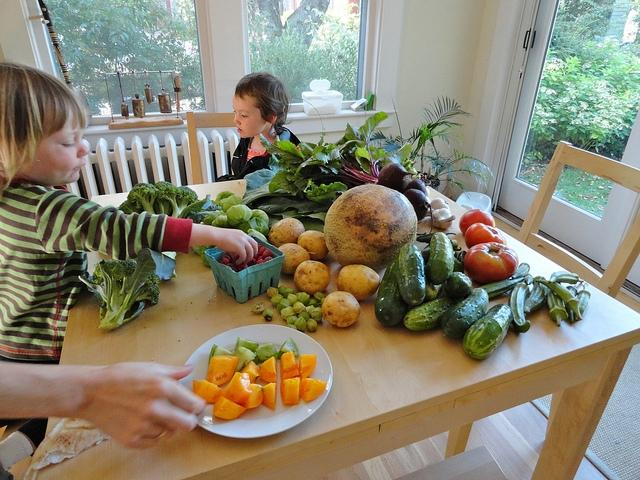brussels sprouts: (308, 307, 324, 322), (280, 306, 296, 320), (296, 292, 310, 306), (276, 298, 290, 312), (293, 300, 306, 314), (294, 316, 306, 331), (282, 287, 296, 299), (306, 318, 318, 332), (286, 293, 298, 306), (262, 309, 274, 322), (266, 286, 278, 298), (314, 292, 326, 303), (298, 312, 310, 322), (278, 285, 286, 296)
cucumber: (462, 304, 514, 360), (374, 260, 410, 326), (441, 288, 488, 338), (403, 296, 465, 331), (394, 243, 426, 306), (424, 232, 454, 286), (422, 248, 464, 273), (445, 272, 472, 298), (422, 277, 443, 303)
potato: (336, 264, 381, 300), (321, 291, 361, 328), (294, 260, 330, 296), (268, 218, 306, 248), (278, 243, 310, 275), (297, 229, 329, 260)
tomato: (464, 242, 519, 284), (465, 222, 507, 250), (459, 209, 496, 234)
vegetable marrow: (535, 280, 582, 320), (508, 282, 530, 333), (478, 277, 524, 299), (523, 276, 547, 316), (546, 286, 568, 328), (548, 270, 584, 284)
